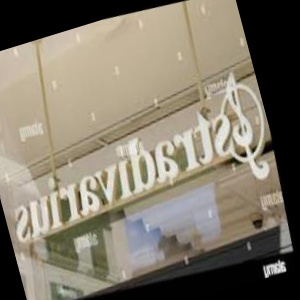stradivarius: (239, 21, 263, 105)
